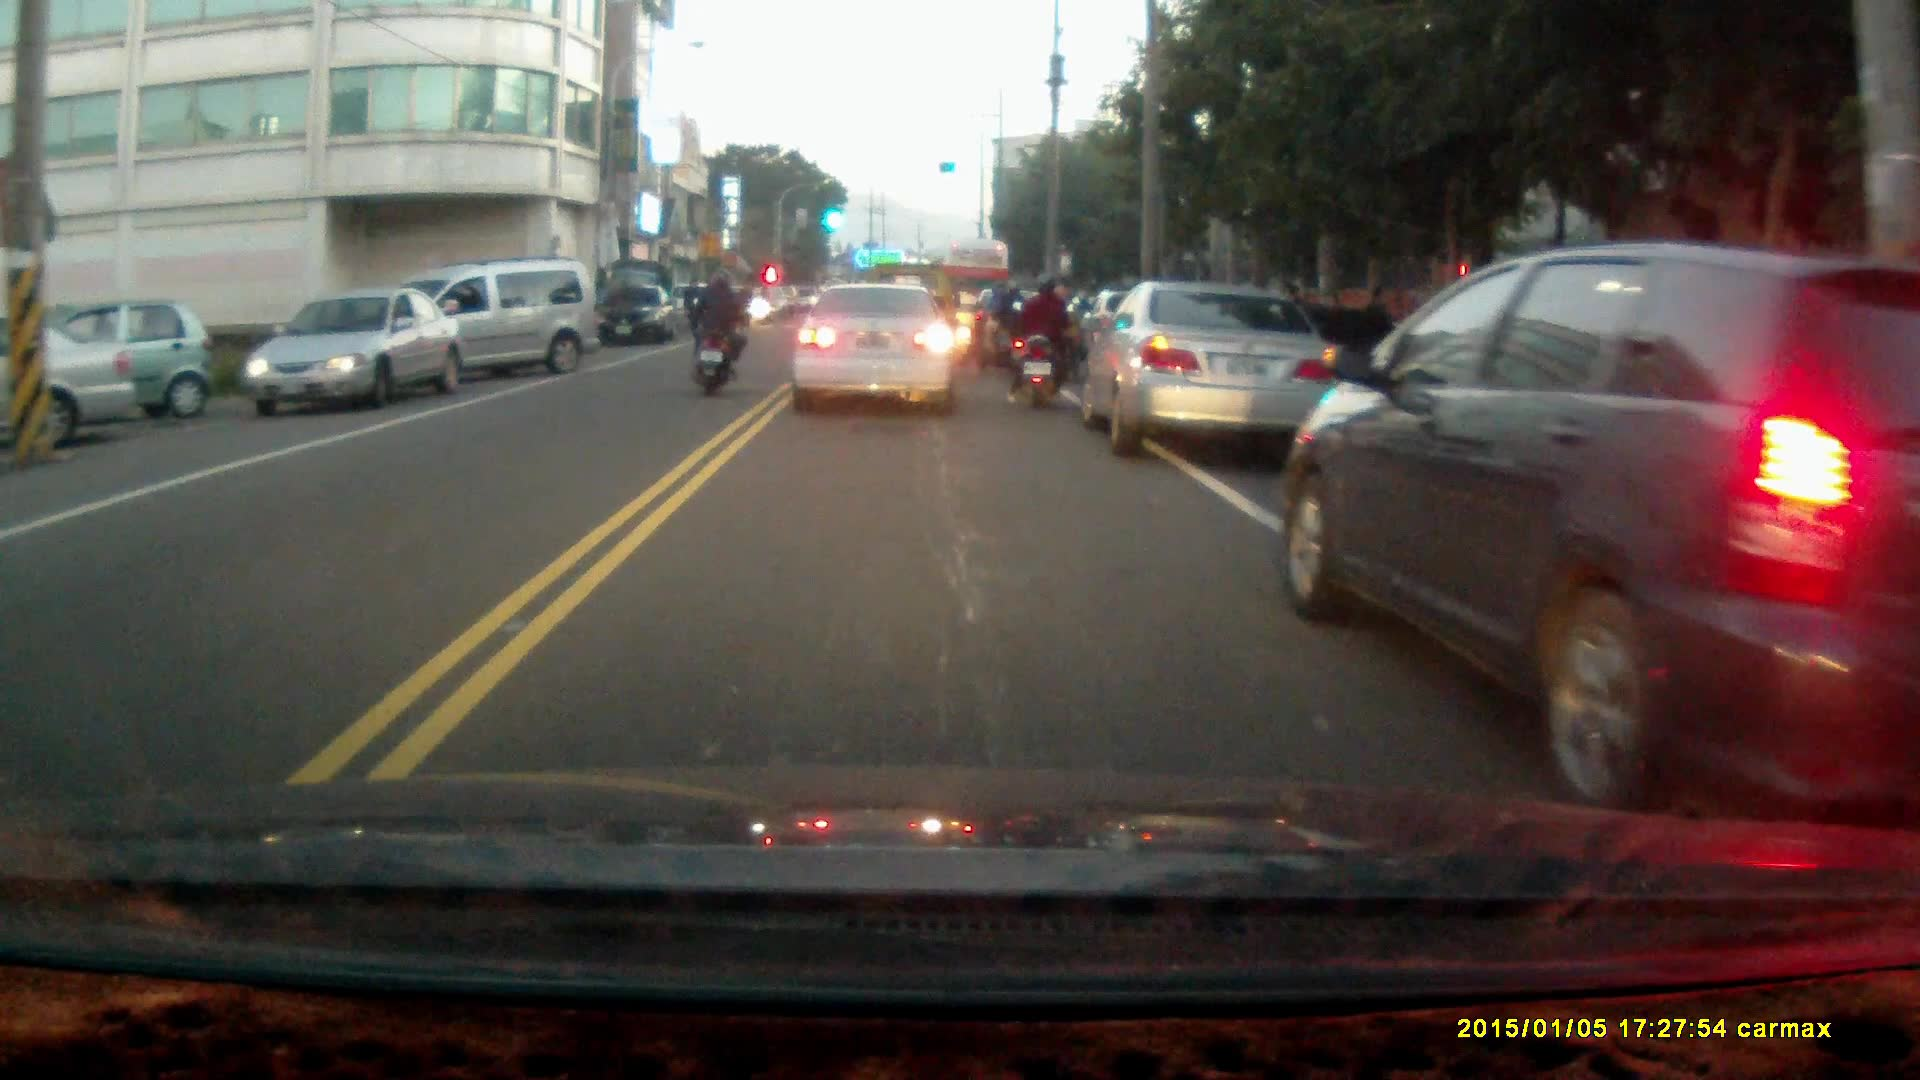rider: (1005, 269, 1077, 411), (687, 272, 746, 394), (971, 273, 1024, 376)
vehicle: (1275, 236, 1920, 809), (1074, 277, 1343, 455), (347, 258, 597, 395), (1, 296, 221, 424), (240, 290, 462, 416), (792, 285, 960, 413), (1, 320, 136, 452), (590, 284, 674, 349)
